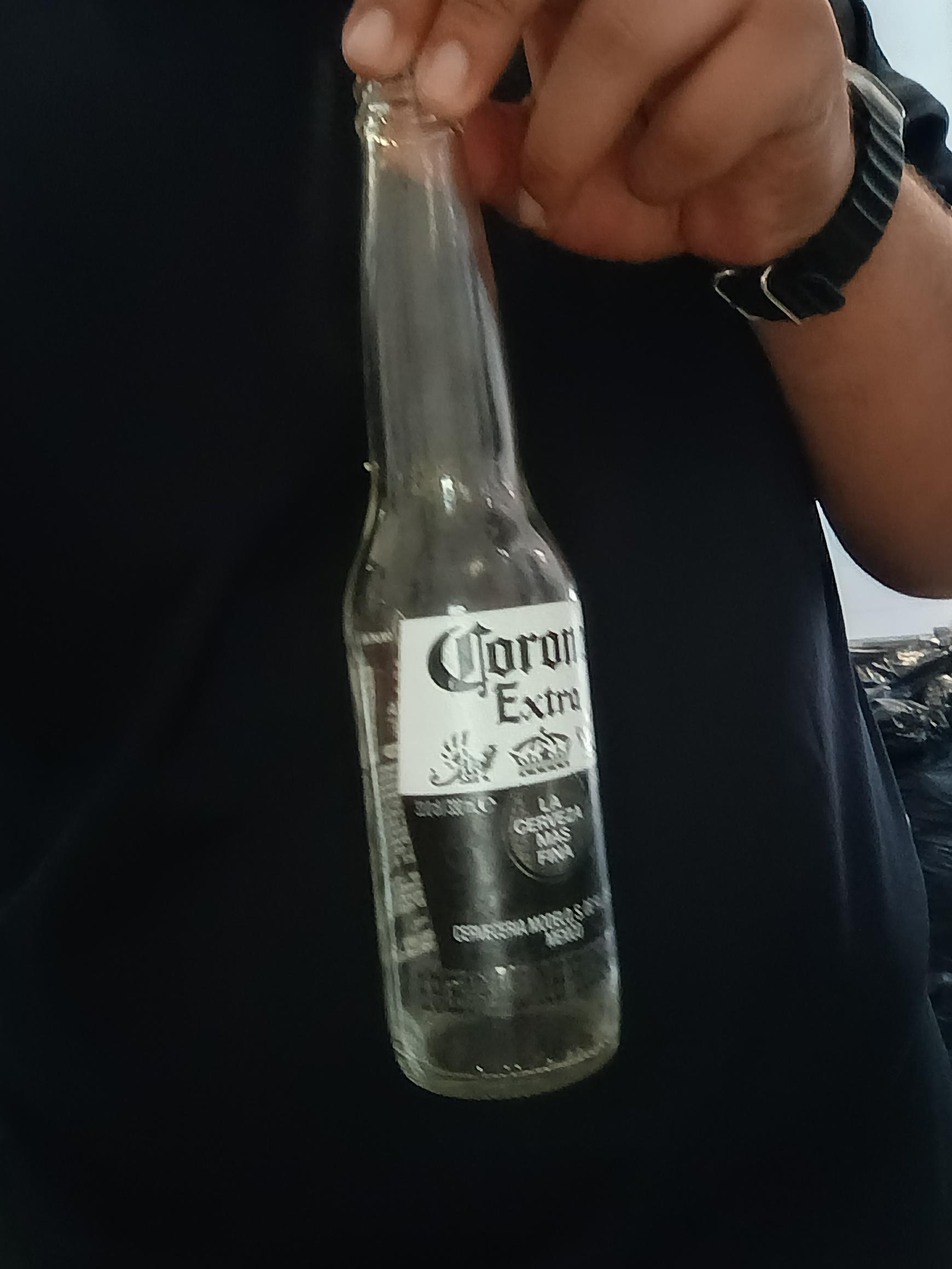Vidrio: (340, 60, 625, 1099)
